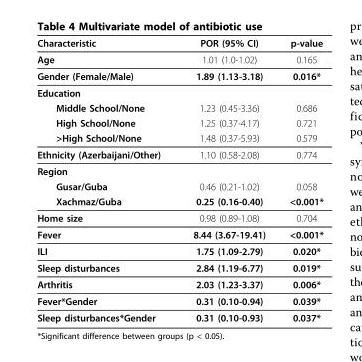table: (36, 36, 322, 323)
table column: (36, 36, 176, 323), (176, 36, 276, 323), (276, 36, 322, 323)
table column header: (36, 36, 322, 50)
table projected row header: (36, 162, 322, 178), (36, 84, 322, 99)
table row: (36, 50, 322, 67), (36, 67, 322, 84), (36, 145, 322, 162), (36, 225, 322, 242), (36, 242, 322, 259), (36, 275, 322, 292), (36, 292, 322, 309), (36, 99, 322, 115), (36, 162, 322, 178), (36, 193, 322, 209), (36, 209, 322, 225), (36, 259, 322, 275), (36, 84, 322, 99), (36, 115, 322, 130), (36, 130, 322, 145), (36, 178, 322, 193), (36, 36, 322, 50), (36, 309, 322, 323)
